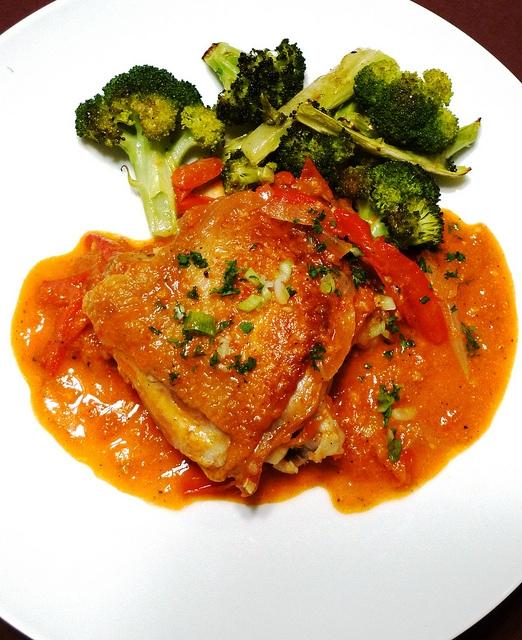broccoli: (75, 66, 228, 238), (241, 46, 400, 165), (288, 102, 480, 178), (352, 60, 460, 155), (336, 160, 443, 250), (202, 38, 306, 126), (257, 120, 340, 183), (221, 148, 275, 194)
green onion: (184, 312, 215, 336), (238, 294, 266, 312), (274, 259, 294, 282), (320, 272, 336, 294), (370, 320, 386, 340), (377, 294, 396, 310), (244, 268, 260, 286)
tomato: (333, 208, 449, 344), (37, 288, 90, 374), (256, 184, 336, 236), (36, 257, 106, 309), (172, 157, 226, 202), (288, 155, 334, 207), (180, 468, 236, 495), (84, 233, 132, 260), (280, 419, 322, 446), (176, 192, 216, 215), (272, 171, 296, 187)
